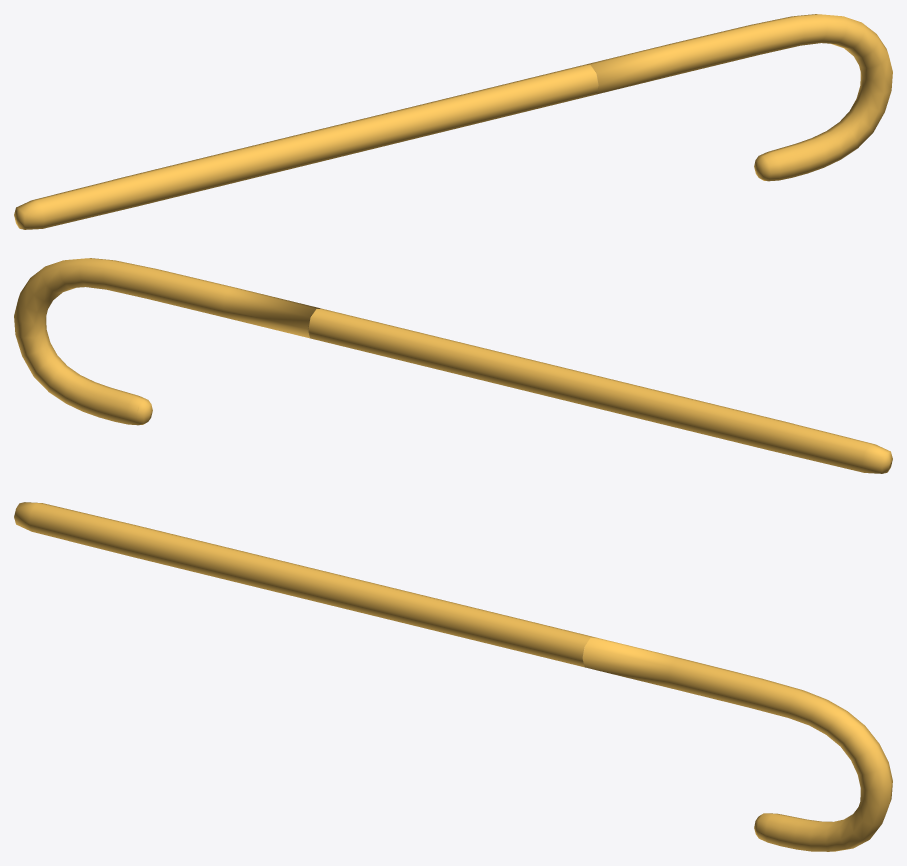
File: Katana35.glb
The picture shows the model from 3 angles, top to bottom: view 1: azimuth 30°, elevation 25°; view 2: azimuth 150°, elevation 25°; view 3: azimuth 330°, elevation 25°; orthographic projection.
Parts seen in each view (by area): view 1: Cube.003, Cube.001; view 2: Cube.003, Cube.001; view 3: Cube.003, Cube.001.
Part boxes in pixels (left/top/right/bottom): Cube.003: left=14, top=64, right=598, bottom=229; Cube.001: left=586, top=14, right=892, bottom=181; Cube.003: left=308, top=308, right=892, bottom=473; Cube.001: left=14, top=258, right=320, bottom=425; Cube.003: left=14, top=502, right=595, bottom=667; Cube.001: left=582, top=637, right=892, bottom=851.
Bounding box in the file's own units: 1.14 × 0.1998 × 0.0365.
2 materials, 2 textured.
